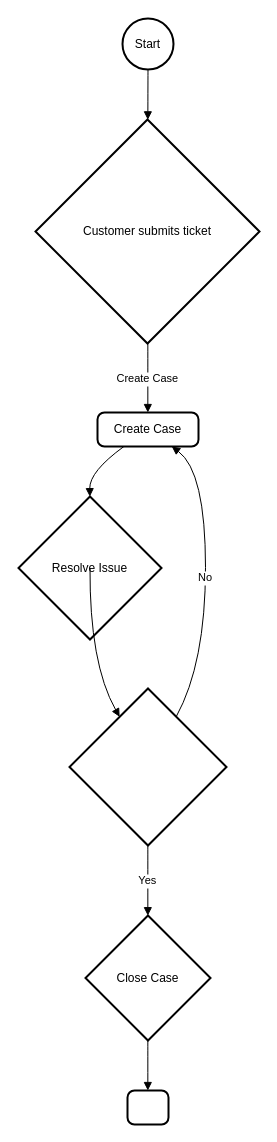
Image size: 277x1142. Some labels were removed from this diagram. Here are the shapes that lost their labels. From the top down, the centre of each, then its label:
At [147,766]: "Issue Resolved?".
At [147,1107]: "End".
